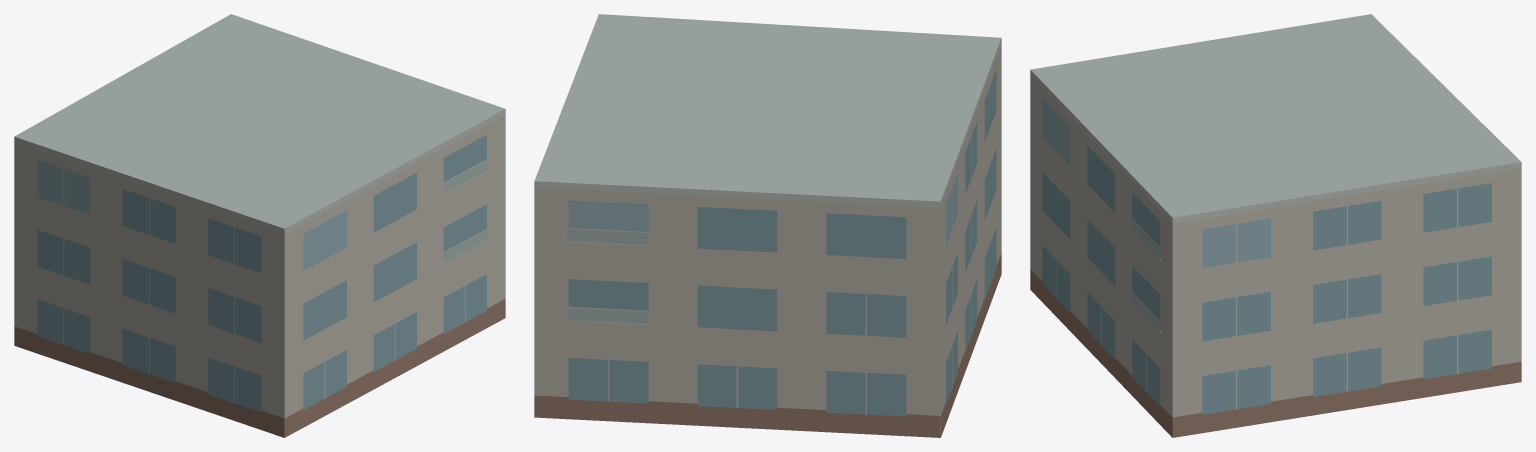
File: survey-upis-32582860.glb
3 views of the same model, side by side, from view 1: azimuth 30°, elevation 25°; view 2: azimuth 150°, elevation 25°; view 3: azimuth 270°, elevation 25° (orthographic). The views are drawn at different scales.
Visible parts, largest first — view 1: survey-upis-32582860.tmp; view 2: survey-upis-32582860.tmp; view 3: survey-upis-32582860.tmp.
Part boxes in pixels (box(x1,y1,x2,y2)): survey-upis-32582860.tmp: box(14, 14, 505, 437); survey-upis-32582860.tmp: box(534, 14, 1001, 437); survey-upis-32582860.tmp: box(1030, 14, 1521, 437).
Size of the model in its own units: 18.19 by 9.15 by 18.52.
